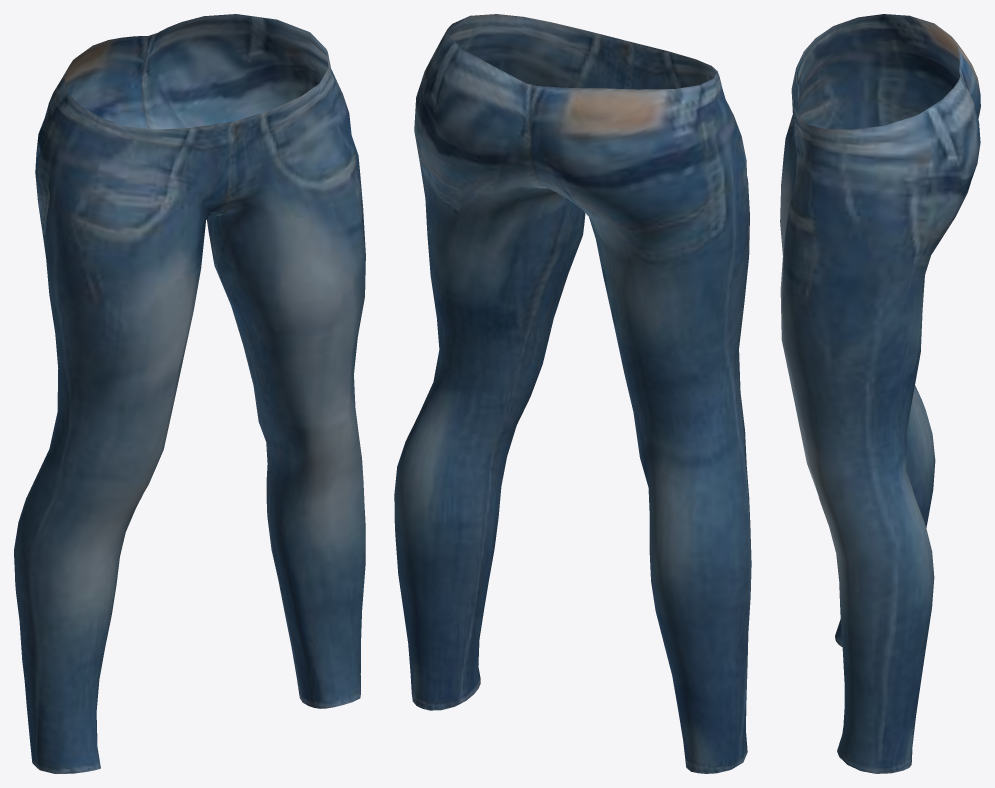
The model's file is jeans.glb.
3 renders of one model, left to right at view 1: azimuth 30°, elevation 25°; view 2: azimuth 150°, elevation 25°; view 3: azimuth 270°, elevation 25°, orthographic. The views are drawn at different scales.
Parts seen in each view (by area): view 1: jeans; view 2: jeans; view 3: jeans.
Boxes of the visible parts, x1,y1,x2,y2 form: jeans: [14, 14, 365, 773]; jeans: [394, 14, 751, 773]; jeans: [780, 14, 980, 773].
Size of the model in its own units: 0.4227 by 0.811 by 0.2308.
1 material, 1 textured.
